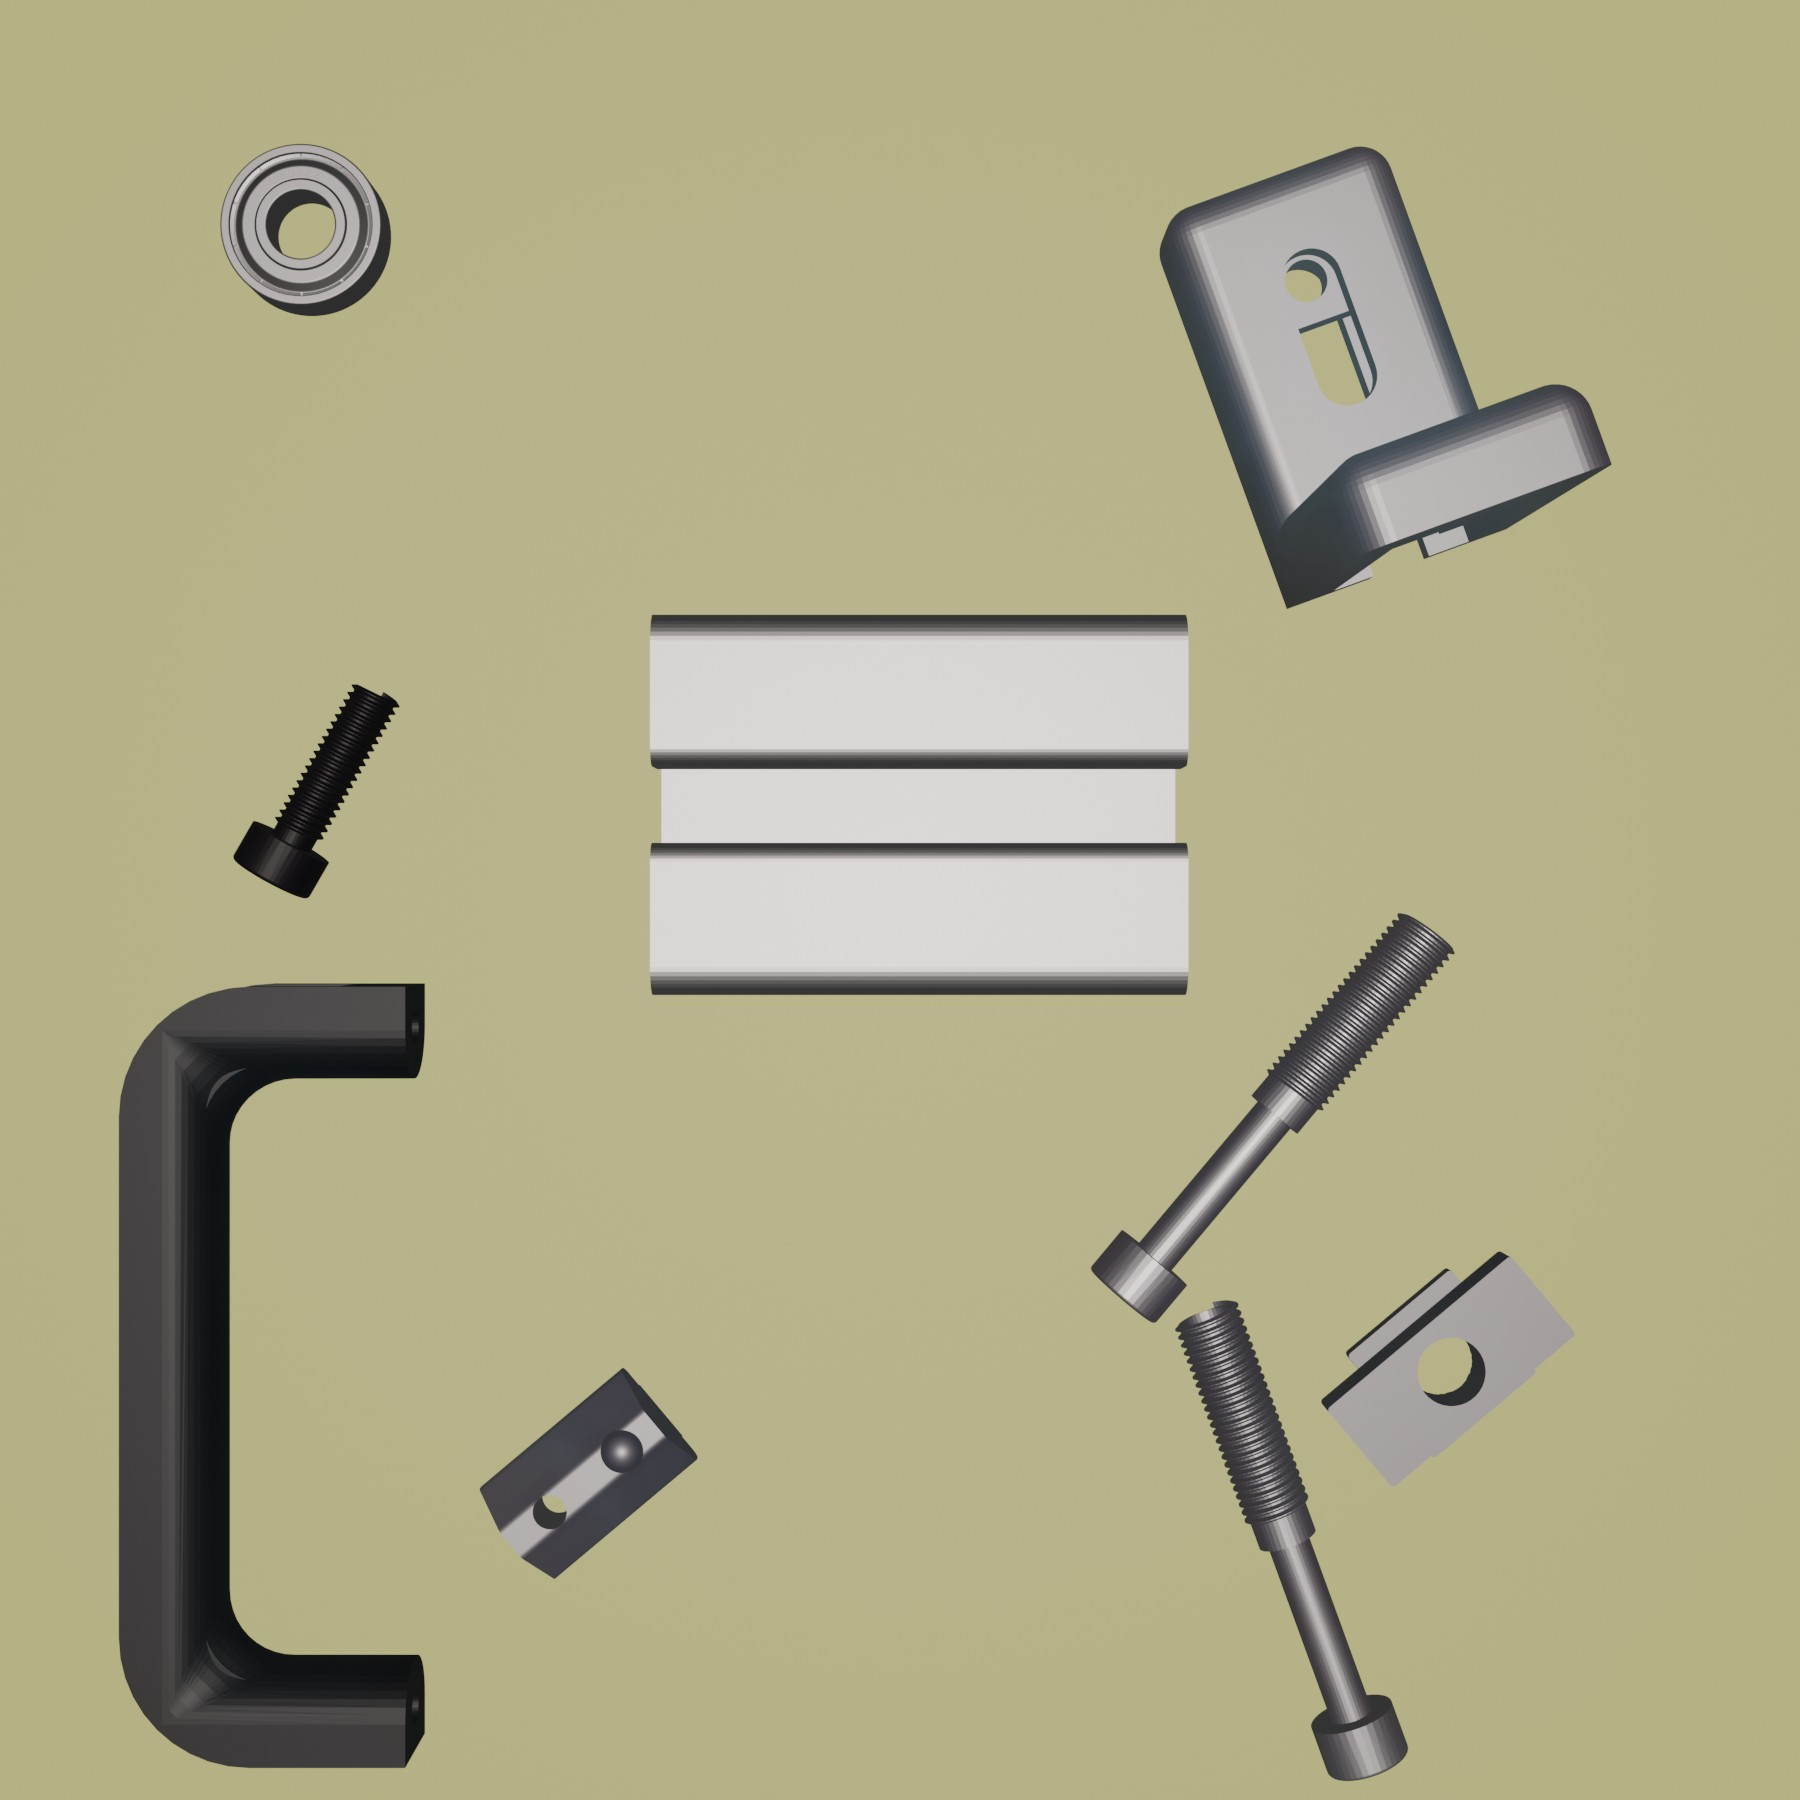Aluminium Extension: (641, 607, 1192, 999)
Ball Bearing: (214, 142, 392, 318)
Multiwinkel: (1159, 143, 1615, 612)
Pull Handle: (112, 977, 429, 1774)
Shoulder Socket Head Cap Screw: (1088, 912, 1459, 1325), (1170, 1301, 1413, 1785)
Socket Head Cap Screw: (232, 676, 402, 903)
T Nut Square: (1324, 1245, 1577, 1492)
T Spring Nut: (476, 1362, 701, 1581)
